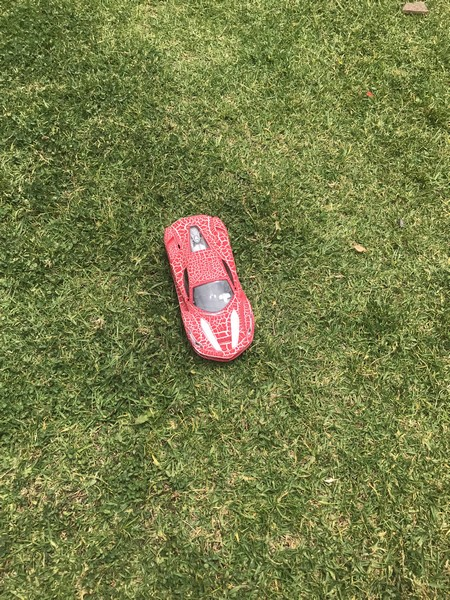RC: (161, 212, 256, 364)
